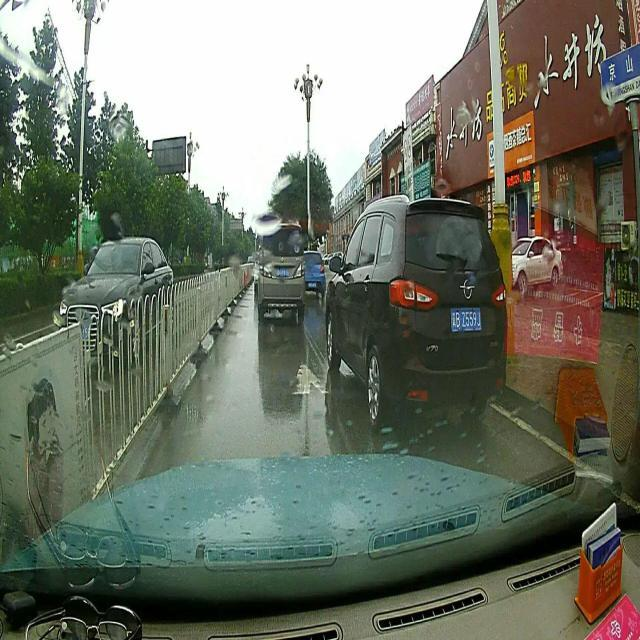car: (322, 191, 506, 416), (55, 236, 172, 356), (254, 224, 306, 317), (300, 244, 328, 300)
